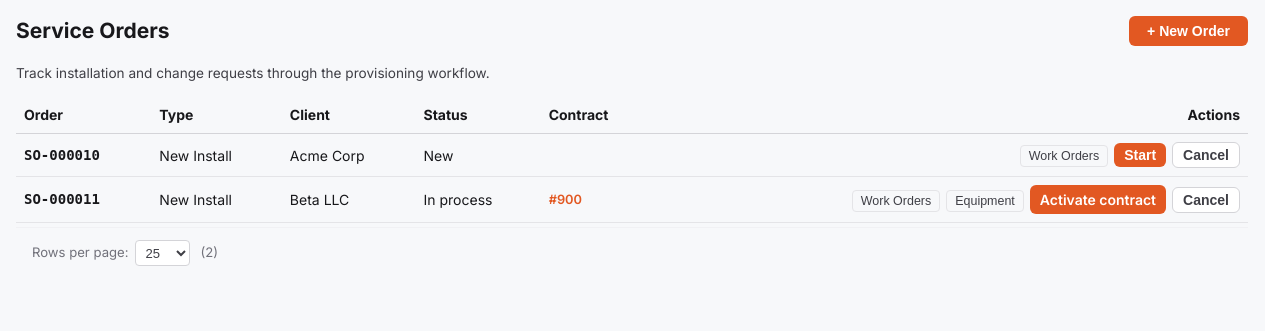
Test: ServiceOrderList page › surfaces a Start failure instead of failing silently
Click the button "Start".
click(1140, 156)  # box [1114,144,1166,168]
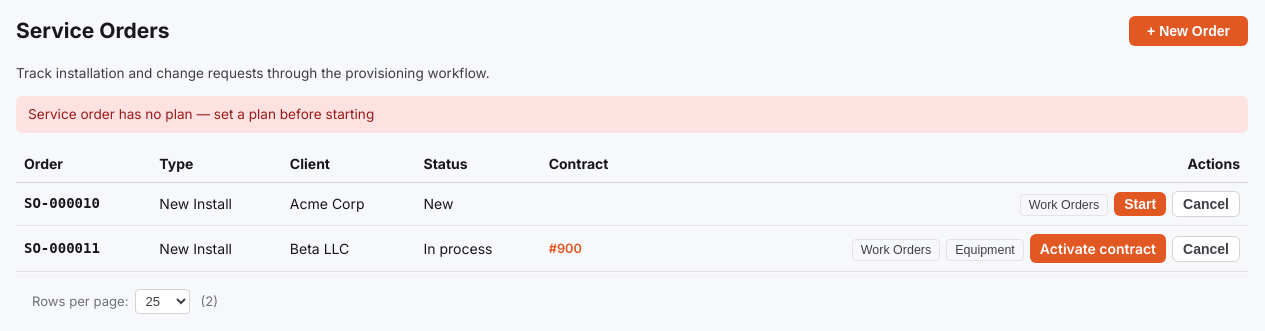
Expected: the text "Service order has no plan — set a plan before starting" is shown, [16,96,1248,133]
